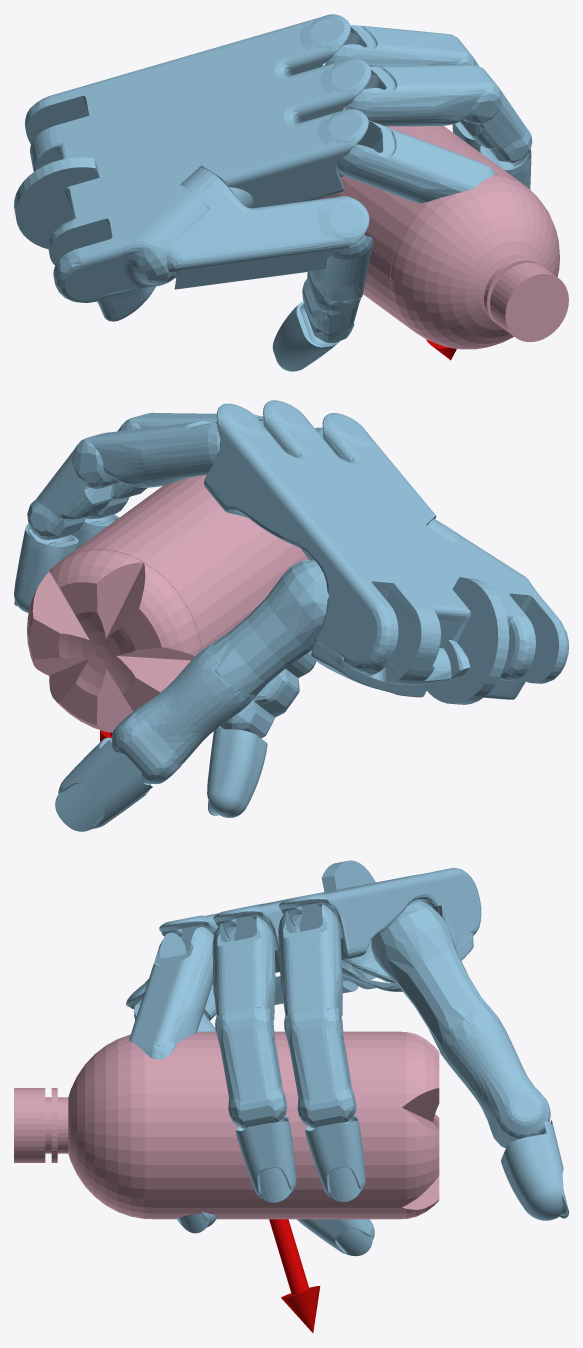
3 renders of one model, top to bottom at view 1: azimuth 30°, elevation 25°; view 2: azimuth 150°, elevation 25°; view 3: azimuth 270°, elevation 25°, orthographic. The views are drawn at different scales.
Parts seen in each view (by area): view 1: world, water_bottle.stl; view 2: world, water_bottle.stl; view 3: world, water_bottle.stl.
Part boxes in pixels (box(x1,y1,x2,y2)): world: box(14, 14, 532, 371); water_bottle.stl: box(318, 107, 568, 349); world: box(14, 400, 568, 831); water_bottle.stl: box(27, 475, 308, 732); world: box(126, 860, 568, 1333); water_bottle.stl: box(14, 1031, 439, 1219).
Bounding box in the file's own units: 0.1803 × 0.1348 × 0.1781.
